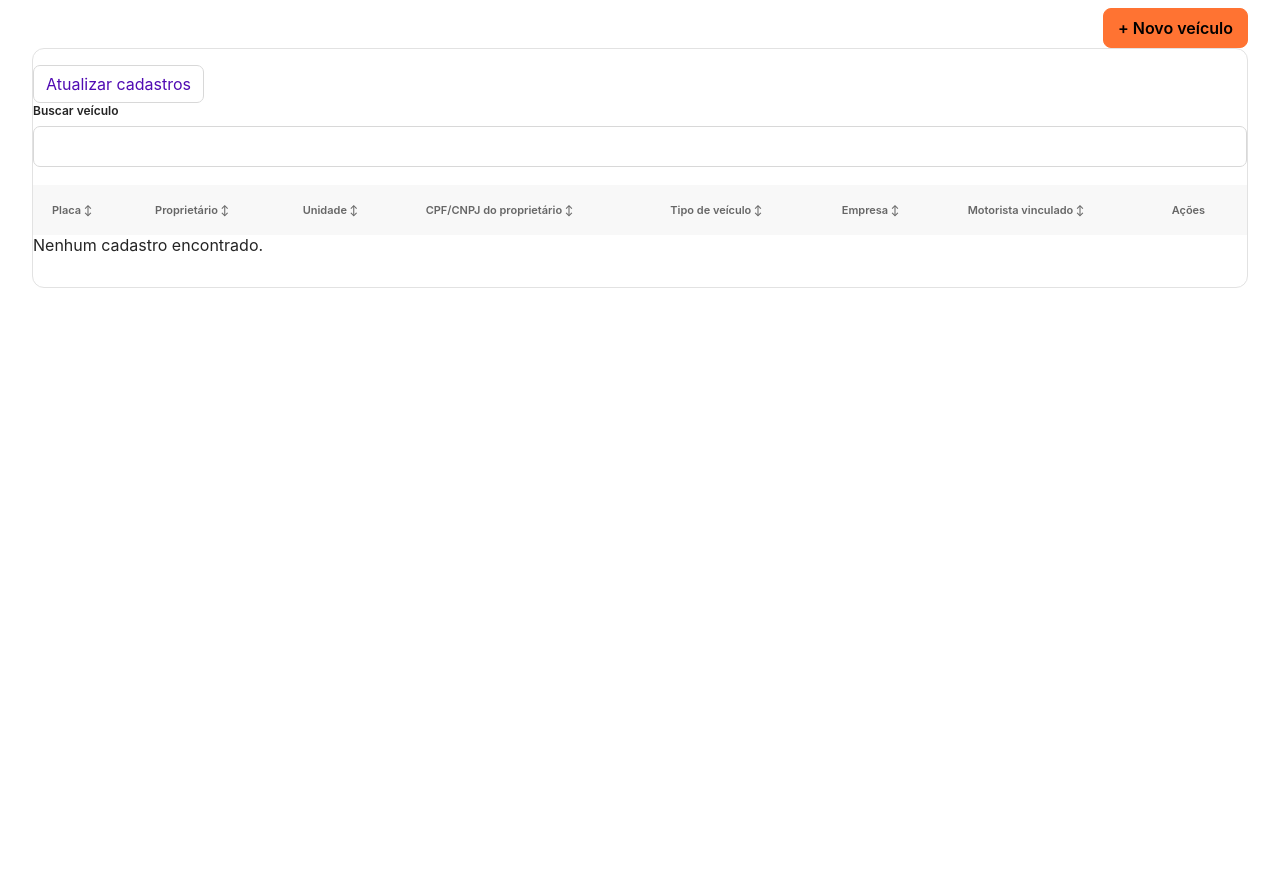
preenche o motorista com o proprietário ao marcar a opção e envia o vínculo
Expected: the text "Nenhum cadastro encontrado." is shown, [33,235,263,255]
Click the button "+ Novo veículo" at (1176, 28), box [1103,8,1248,48]
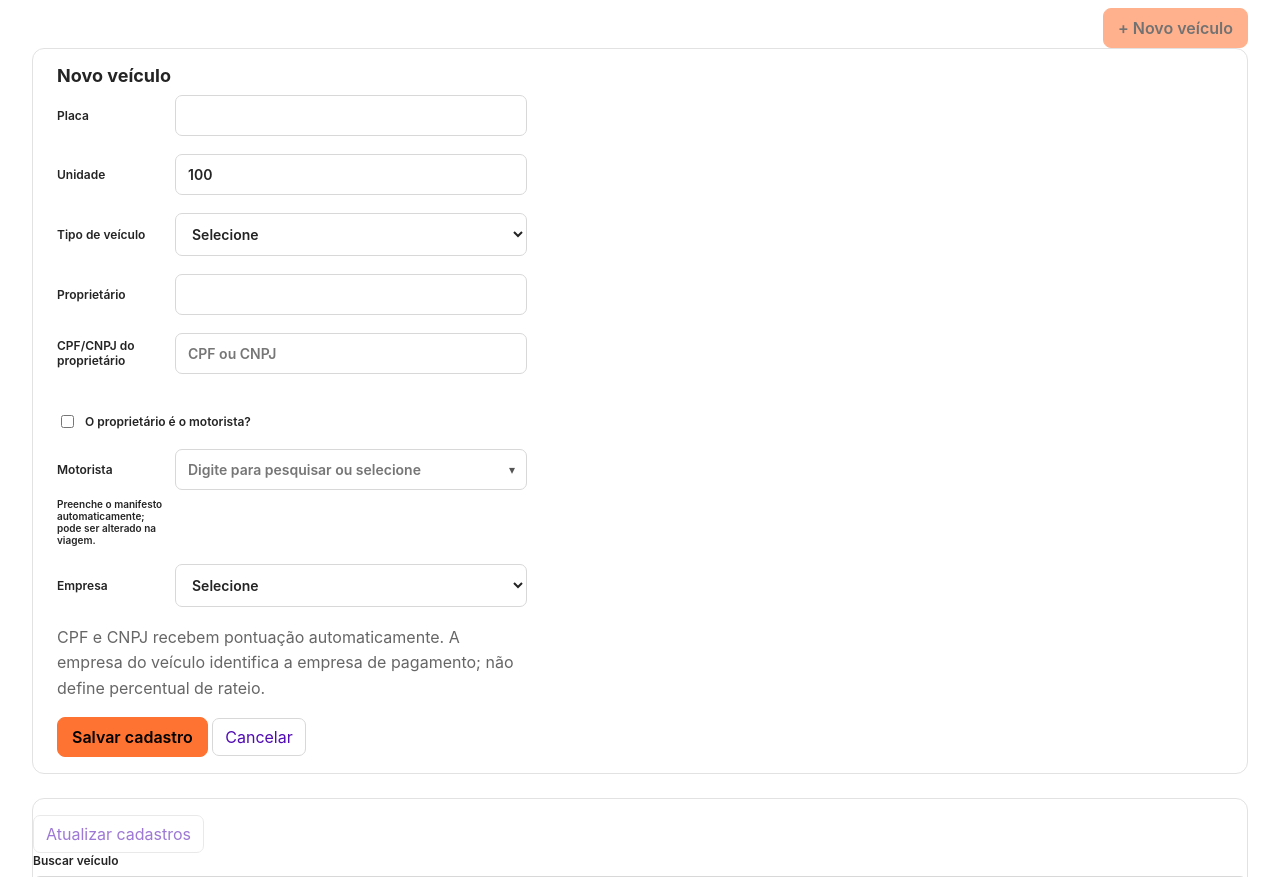
Type "ABC1234" into the field labelled "Placa" at (351, 115), box [175,95,527,136]
Select "1 · Truck" in the dropdown labelled "Tipo de veículo" at (351, 234), box [175,213,527,256]
Type "joao silva" into the field labelled "Proprietário" at (351, 294), box [175,274,527,315]
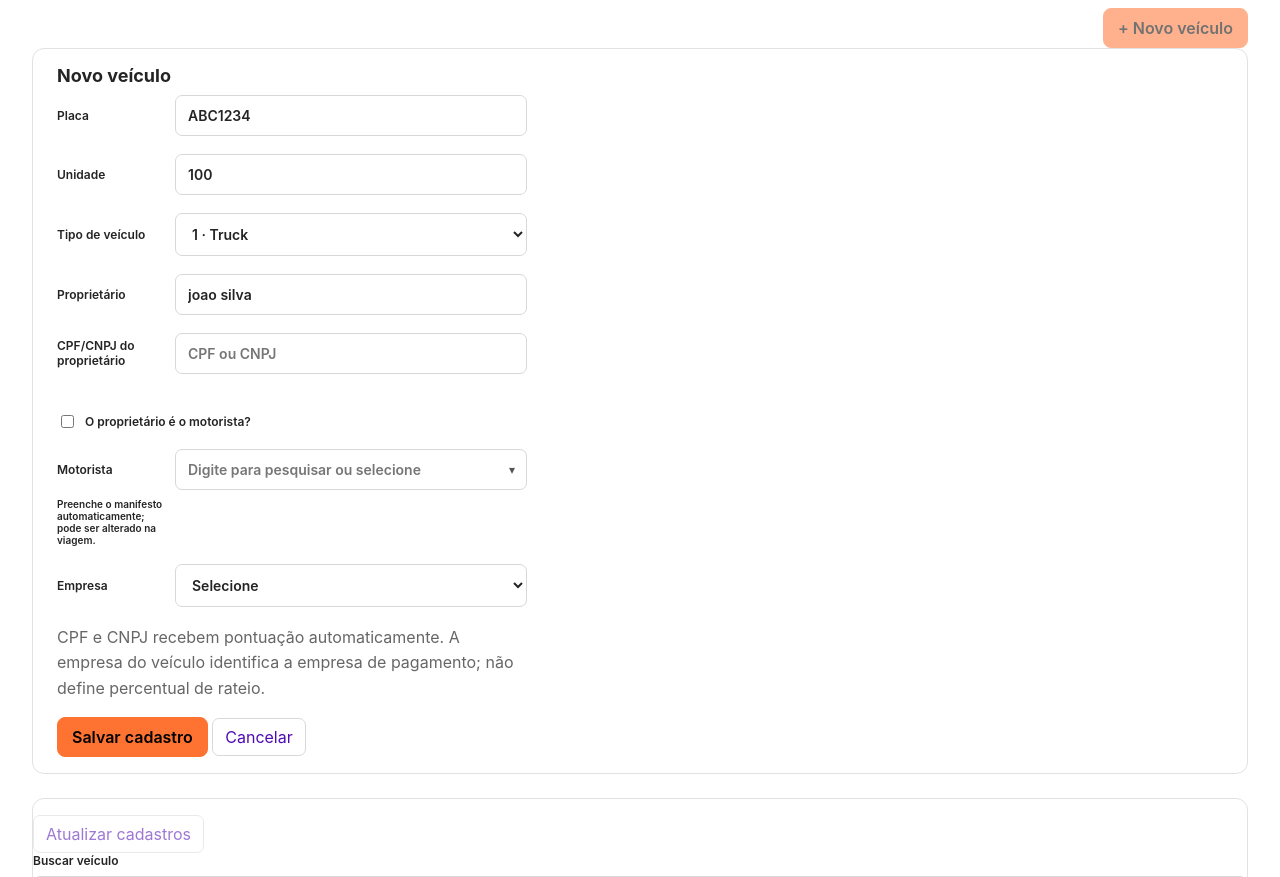
Type "11222333000181" into the field labelled "CPF/CNPJ do proprietário" at (351, 353), box [175,333,527,374]
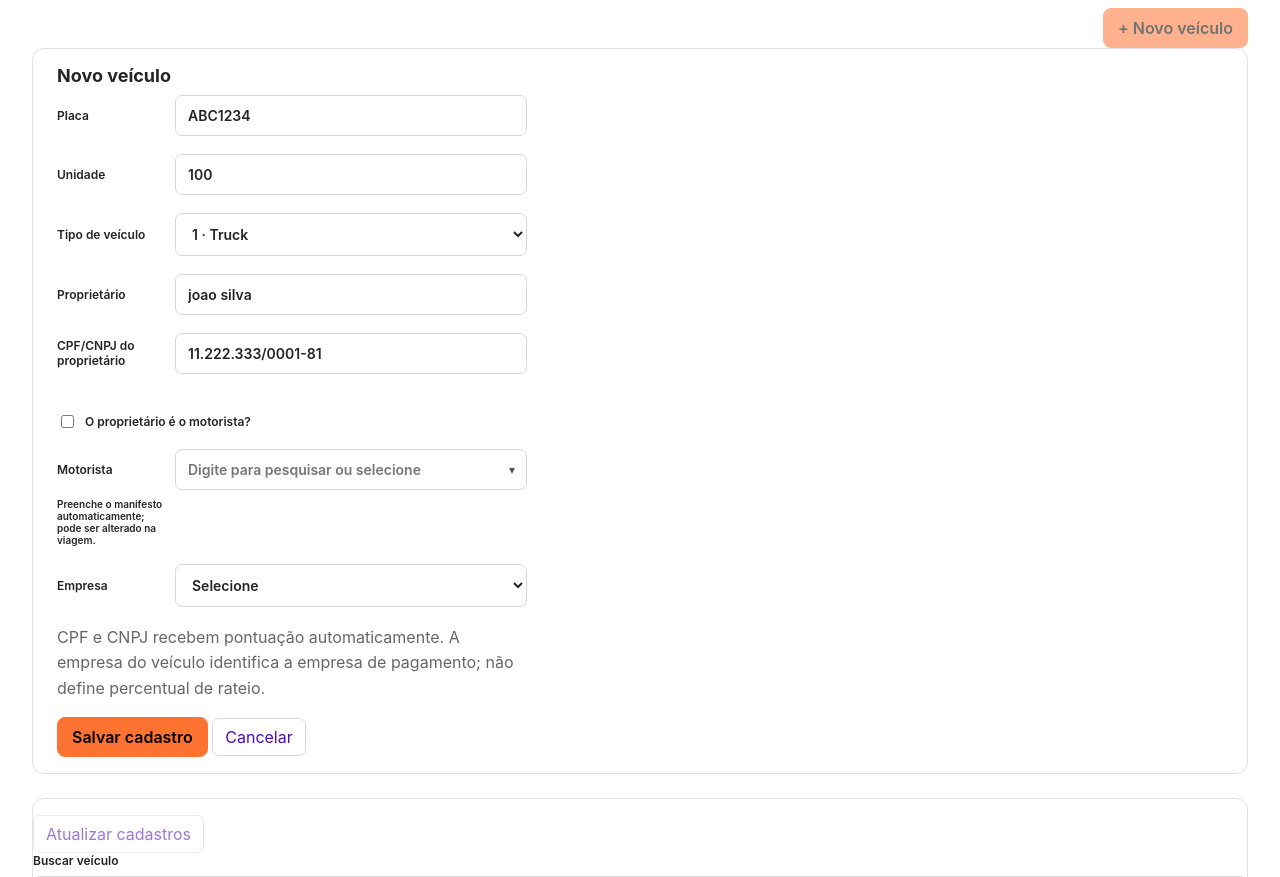
Select "AZN · AZN" in the dropdown labelled "Empresa" at (351, 585), box [175,564,527,607]
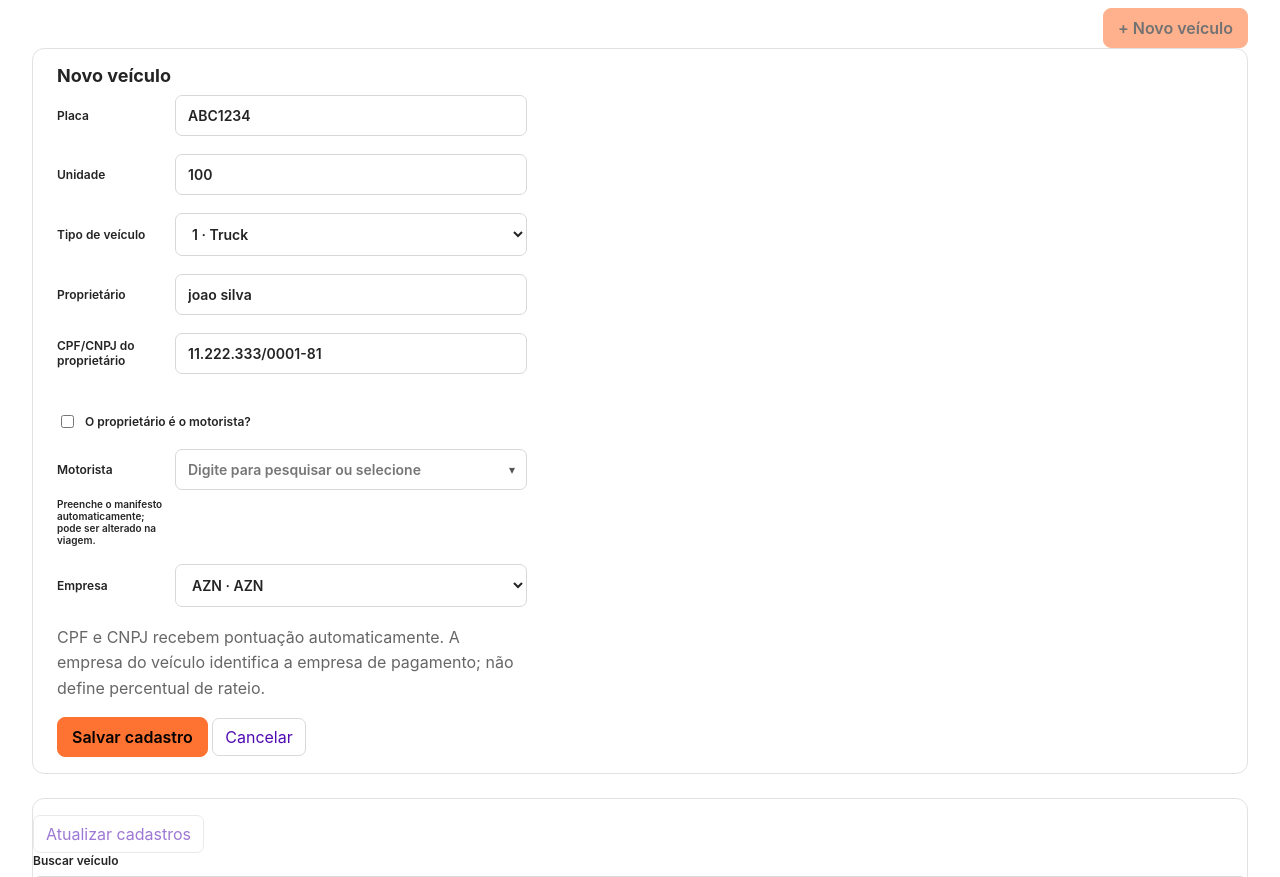
Click the checkbox labelled "O proprietário é o motorista?" at (68, 421), box [61,415,74,428]
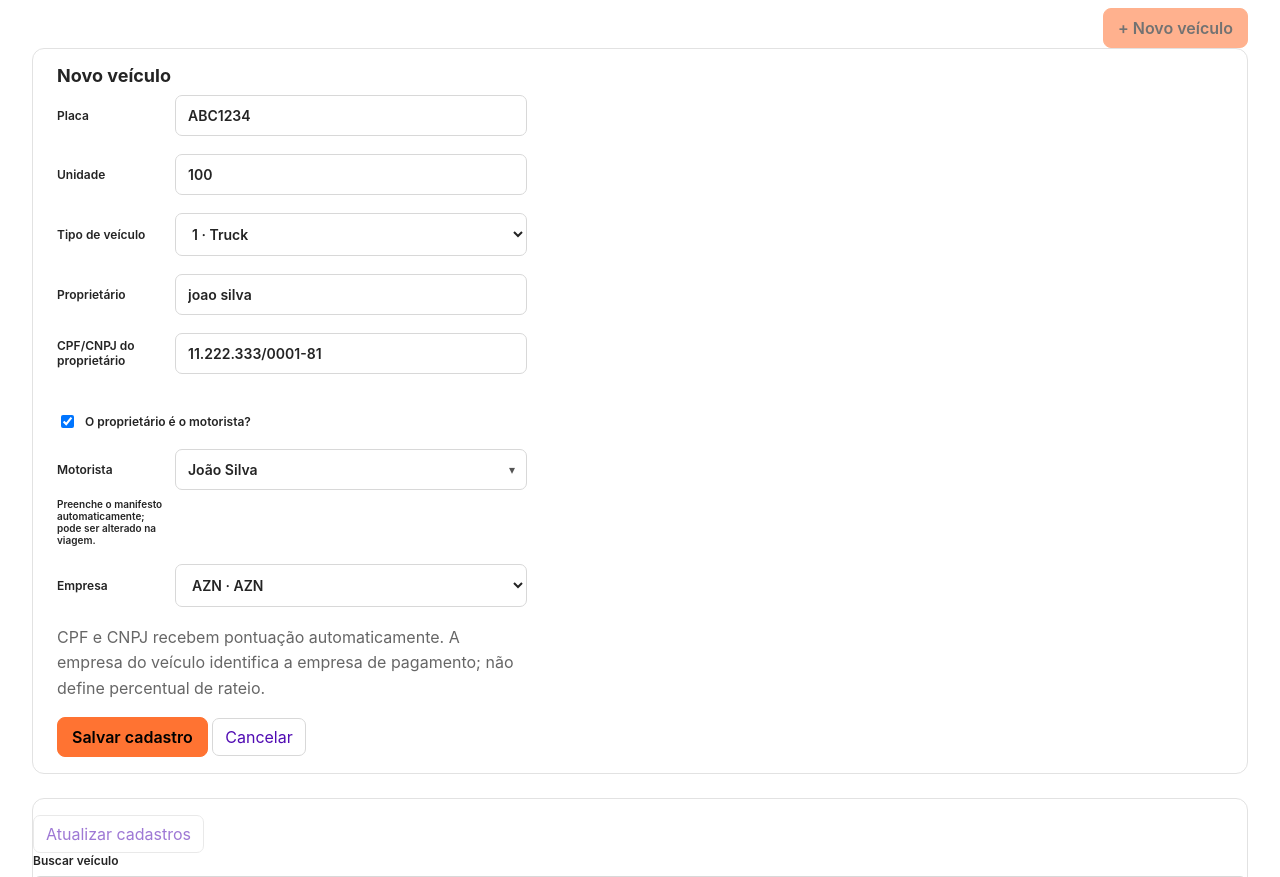
Expected: the dropdown named "Motorista do veículo" holds "João Silva", [175,449,527,490]
Click the button "Salvar cadastro" at (132, 737), box [57,717,208,757]
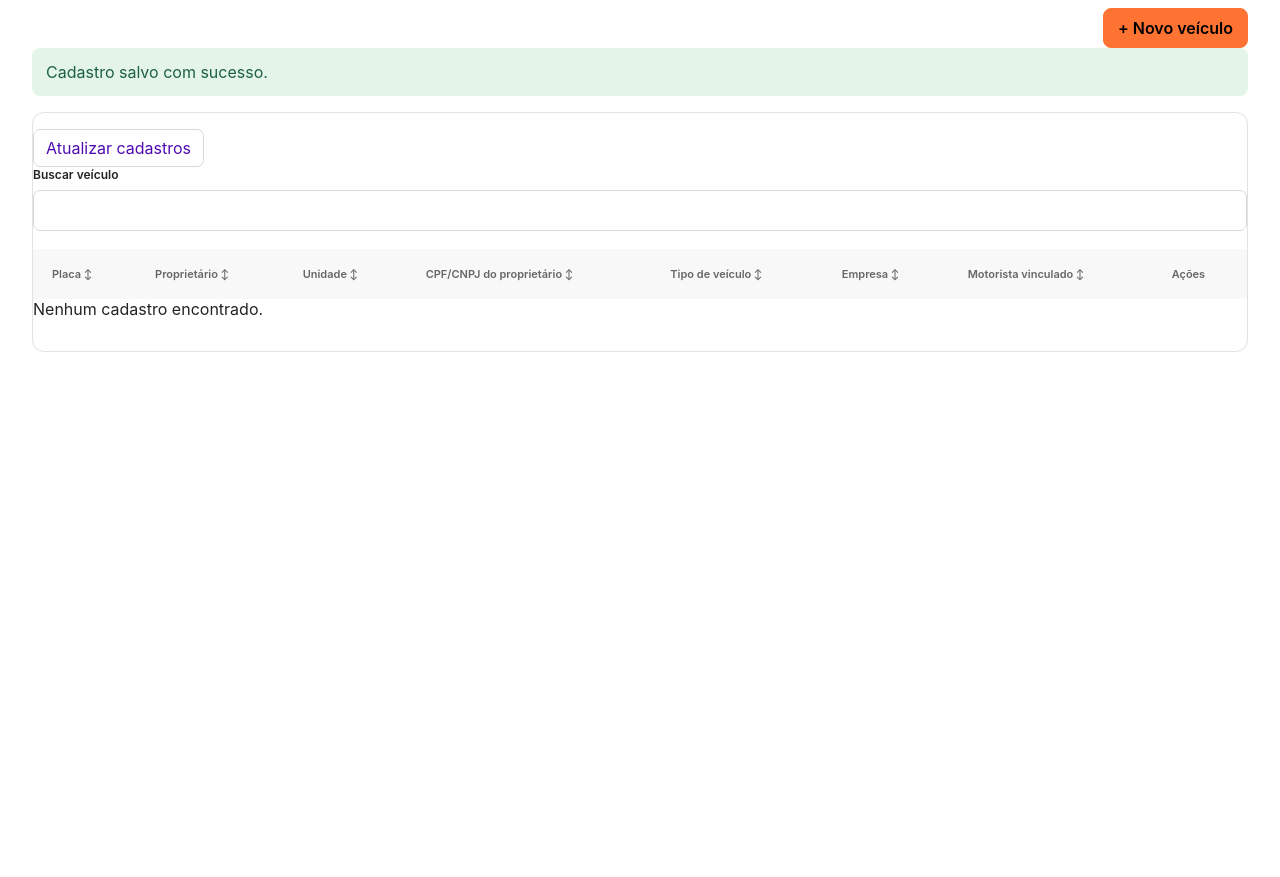
Expected: the text "Cadastro salvo com sucesso." is shown, [32,48,1248,96]
